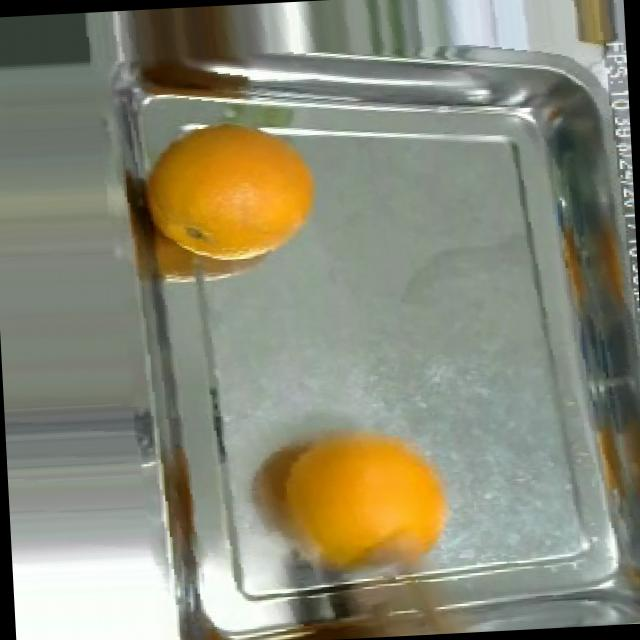Fruit: (121, 113, 335, 282), (556, 0, 627, 61)
